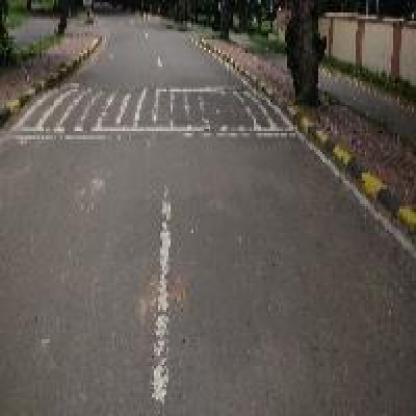Speed Bump: (2, 83, 300, 144)
